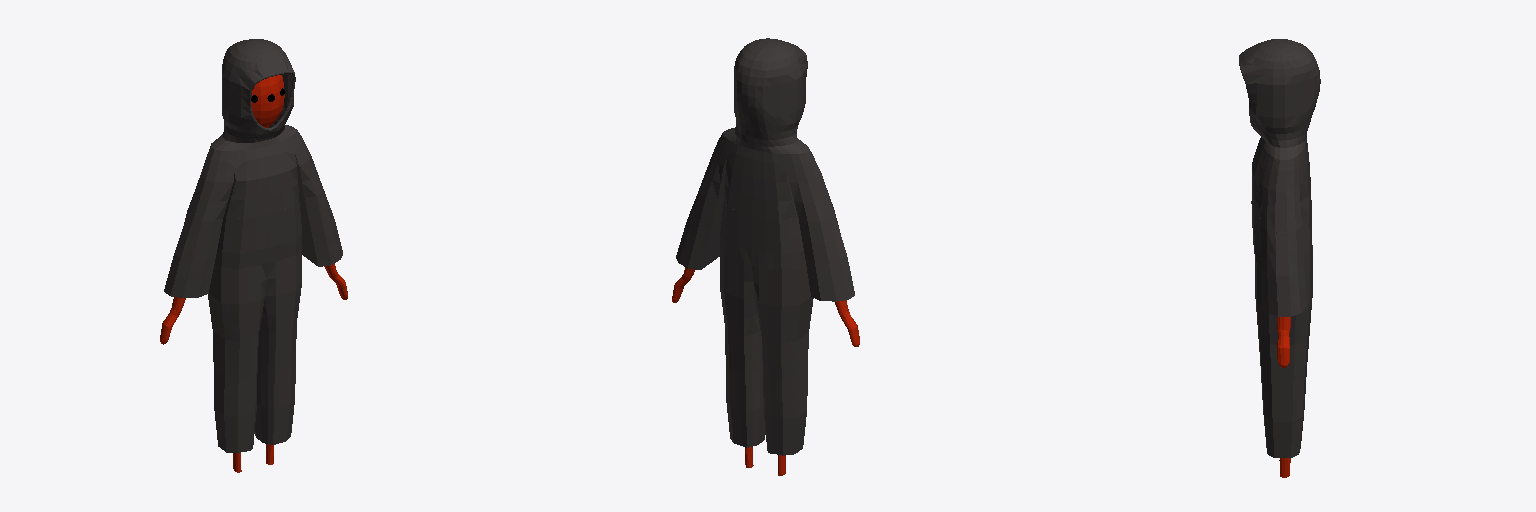
The model's file is Etalo_body_AllMerge.obj.
The picture shows the model from 3 angles: view 1: azimuth 30°, elevation 25°; view 2: azimuth 150°, elevation 25°; view 3: azimuth 270°, elevation 25°; orthographic projection.
Parts seen in each view (by area): view 1: Cube_Cube.001; view 2: Cube_Cube.001; view 3: Cube_Cube.001.
Part boxes in pixels (x1,y1,x2,y2): Cube_Cube.001: (160,39,347,472); Cube_Cube.001: (672,38,859,475); Cube_Cube.001: (1239,39,1320,477).
Bounding box in the file's own units: 0.698 × 1.52 × 0.2642.